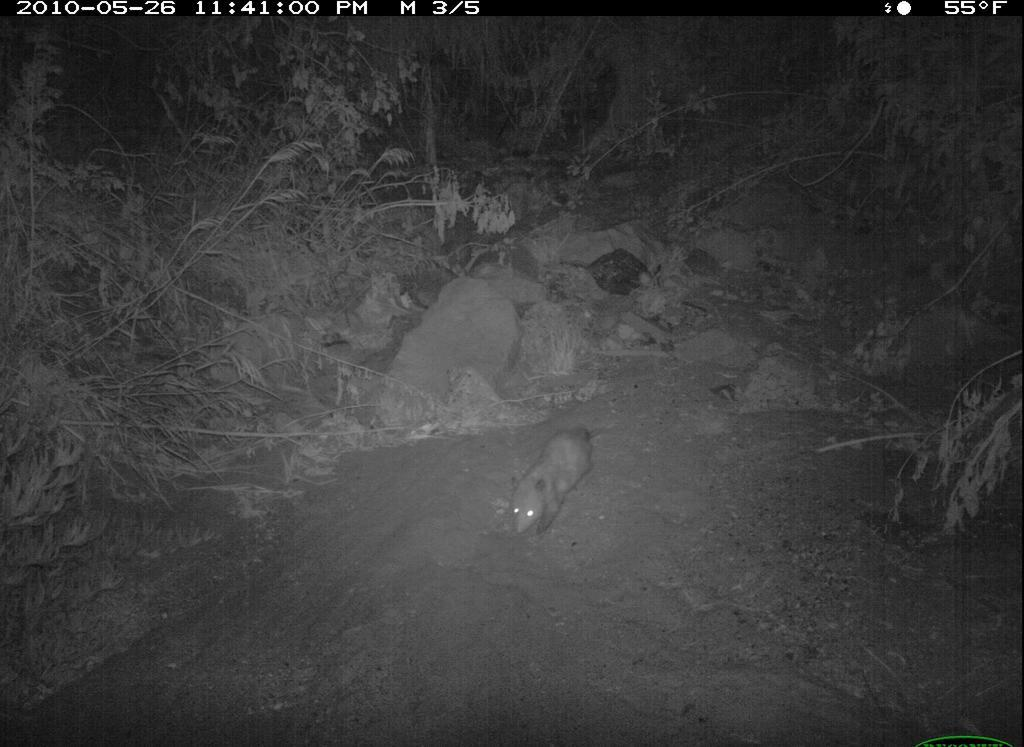opossum: (456, 411, 623, 566)
